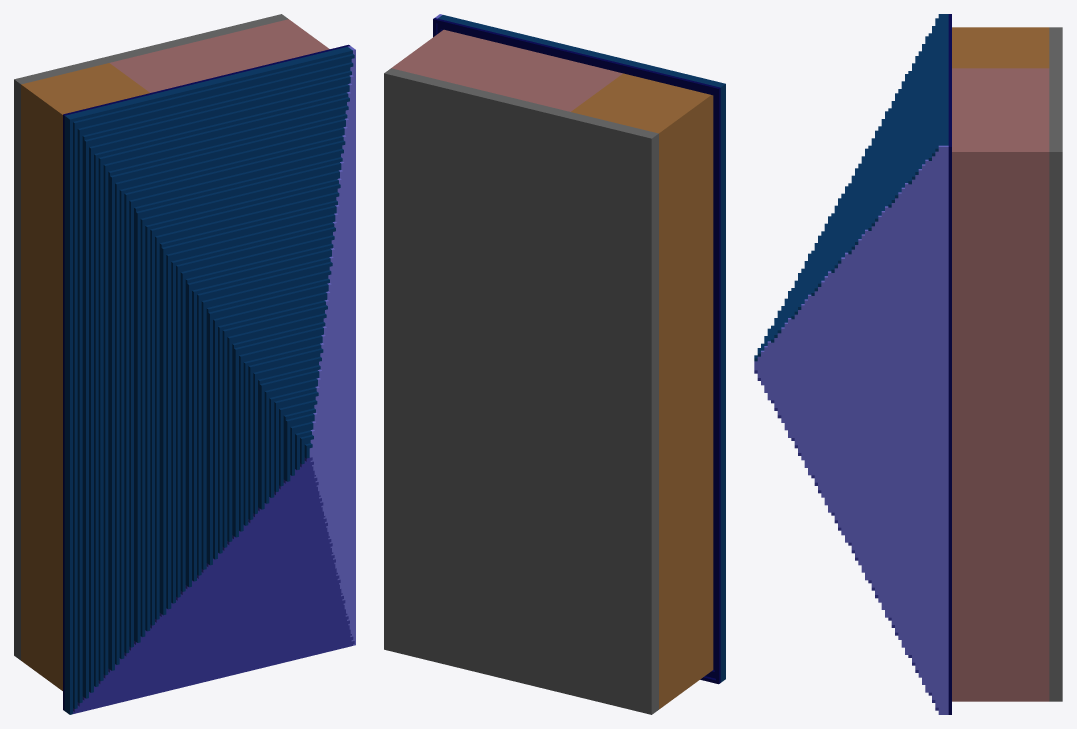
The model's file is blue_hall_2.obj.
The picture shows the model from 3 angles, left to right: view 1: azimuth 30°, elevation 25°; view 2: azimuth 150°, elevation 25°; view 3: azimuth 270°, elevation 25°; orthographic projection. The views are drawn at different scales.
Bounding box in the file's own units: 9.4 × 18.7 × 9.2.
Materials: 1 (1 with a texture image).
